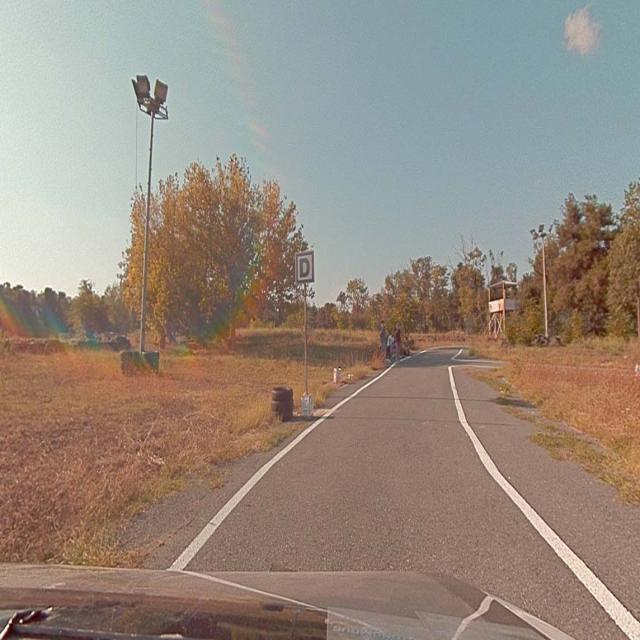durak: (294, 251, 315, 282)
